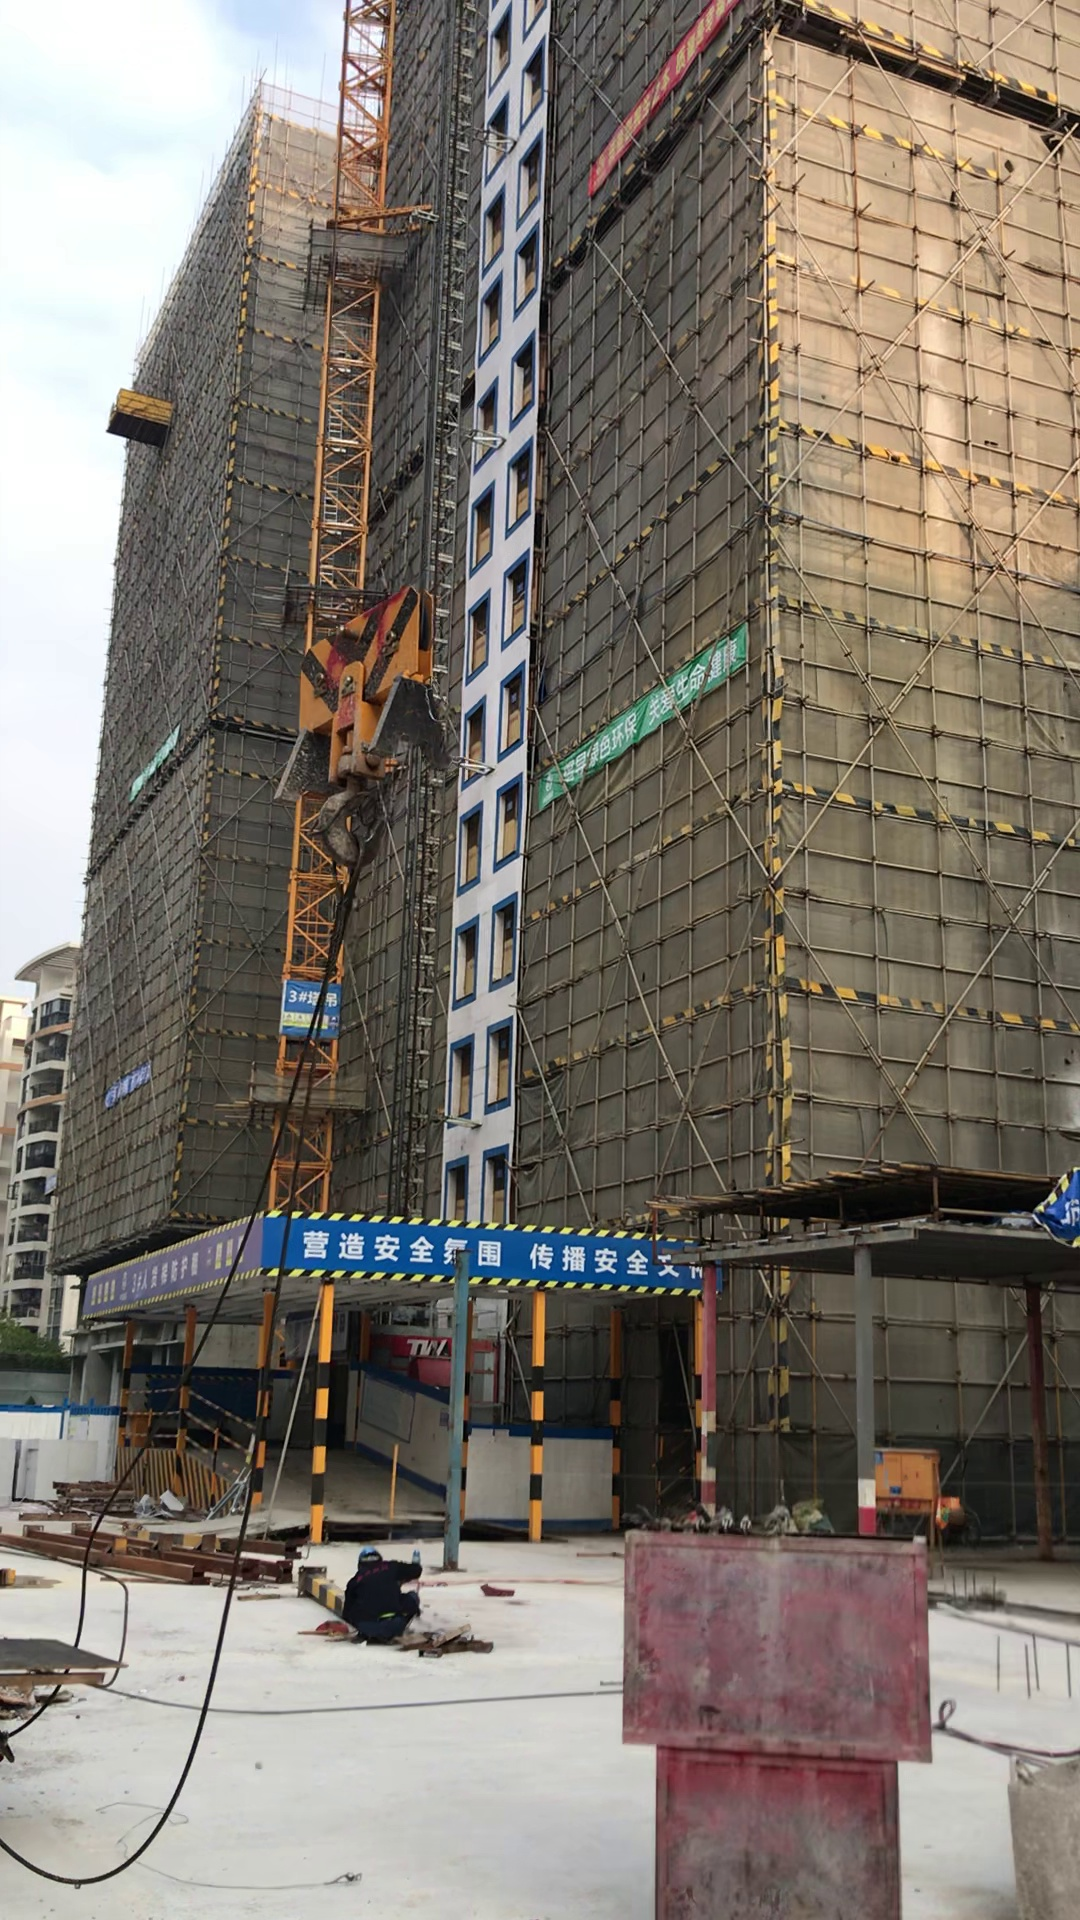brick: (12, 1436, 105, 1507)
ebox: (869, 1448, 944, 1512)
helmet: (353, 1547, 387, 1562)
hook: (266, 570, 453, 809)
hopper: (972, 1711, 1080, 1913)
person: (331, 1539, 465, 1655)
slogan: (541, 621, 749, 810), (264, 1211, 701, 1290), (95, 1209, 259, 1320), (101, 1062, 156, 1109)
